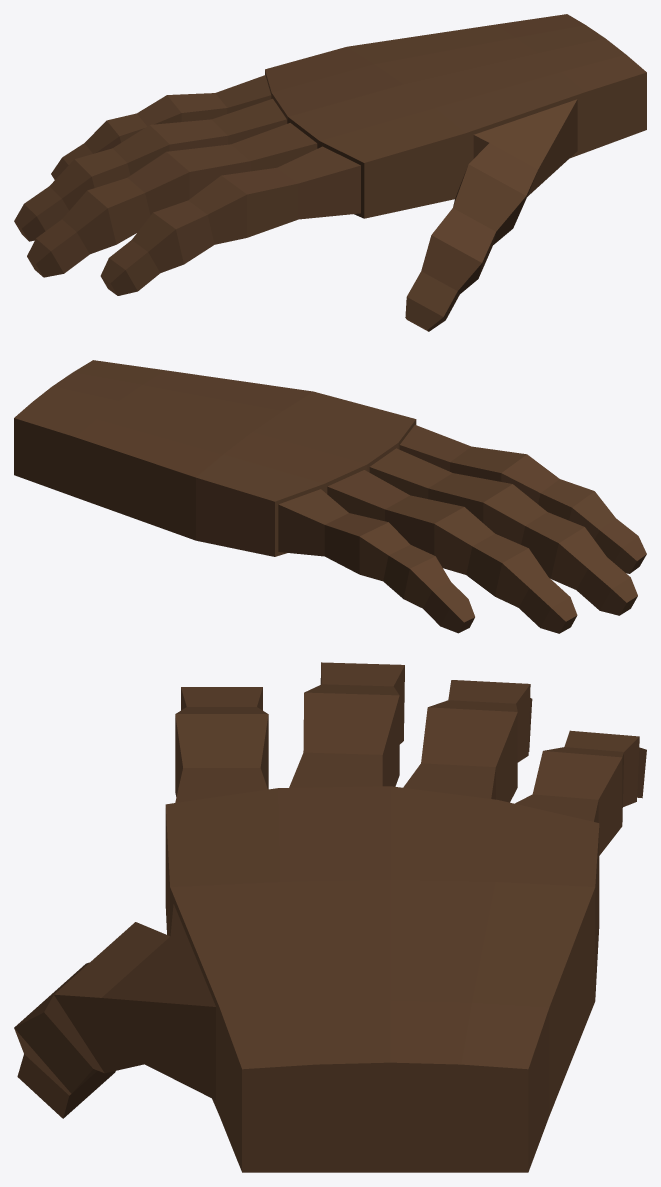
File: old_handR.fbx
3 renders of one model, top to bottom at view 1: azimuth 30°, elevation 25°; view 2: azimuth 150°, elevation 25°; view 3: azimuth 270°, elevation 25°, orthographic. The views are drawn at different scales.
Visible parts, largest first — view 1: HandOld.R; view 2: HandOld.R; view 3: HandOld.R.
Boxes of the visible parts, x1,y1,x2,y2 form: HandOld.R: [14, 14, 646, 331]; HandOld.R: [14, 360, 646, 633]; HandOld.R: [14, 662, 646, 1172].
Bounding box in the file's own units: 21.55 × 5.82 × 11.35.
